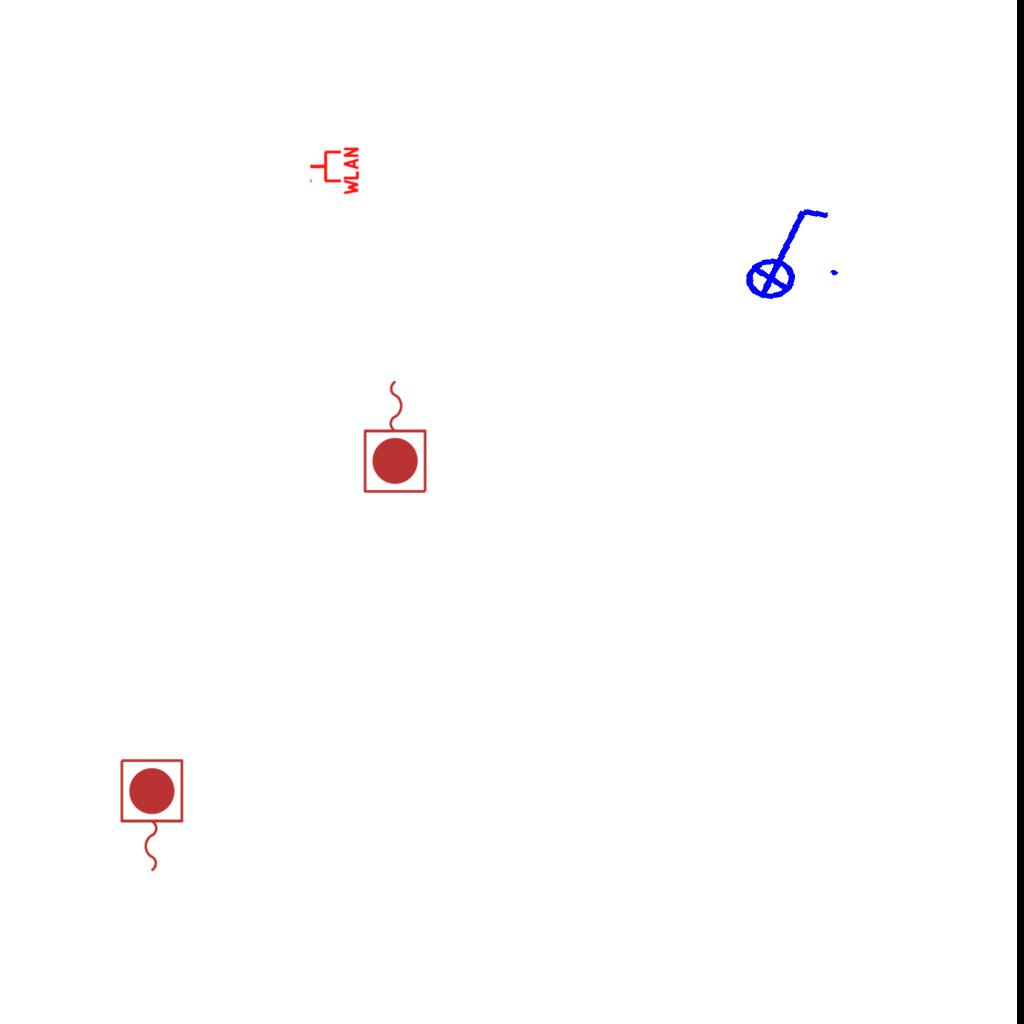Ausschalter_beleuchtet: (724, 197, 846, 305)
WLAN: (308, 145, 360, 197)
Zugtaster: (360, 375, 432, 497), (115, 755, 187, 877)
